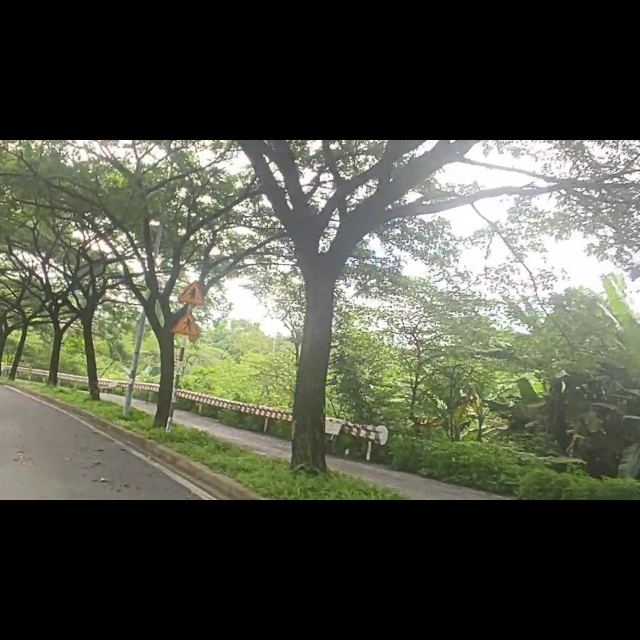bien_nguy_hiem: (167, 300, 208, 353), (176, 245, 214, 299)
